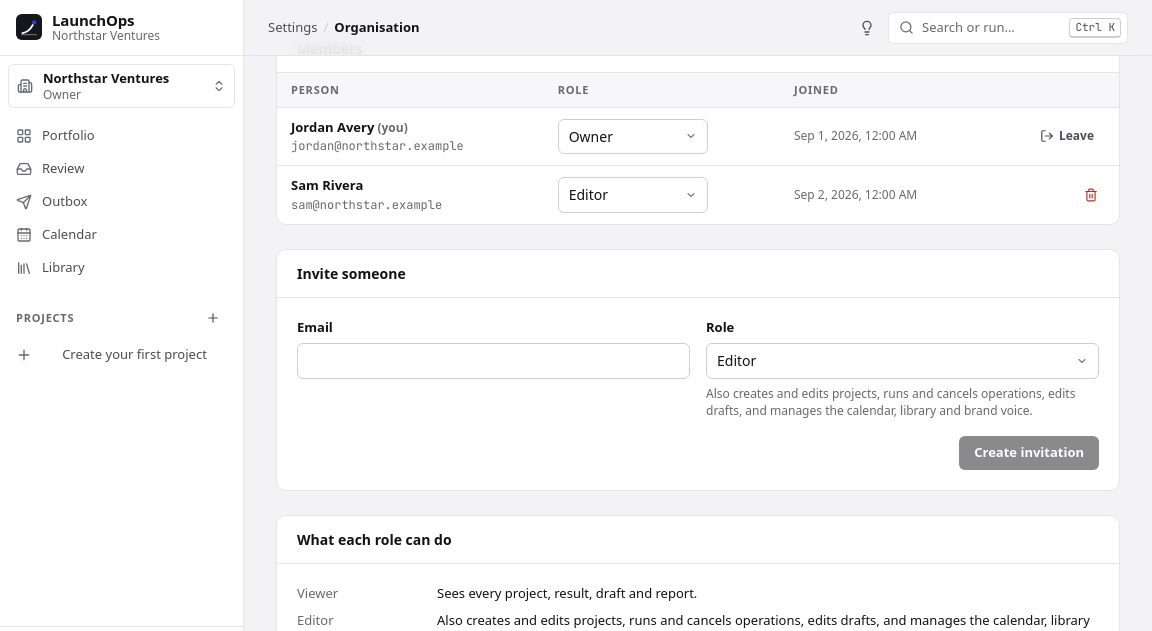
Test case: Invitations by email › says the invitation was emailed when a mail server is set up
This screenshot has width=1152, height=631.
(page scrolled)
Step 1. Type "priya@lumen.example" into the field labelled "Email" → (494, 361), box x1=297 y1=343 x2=690 y2=379
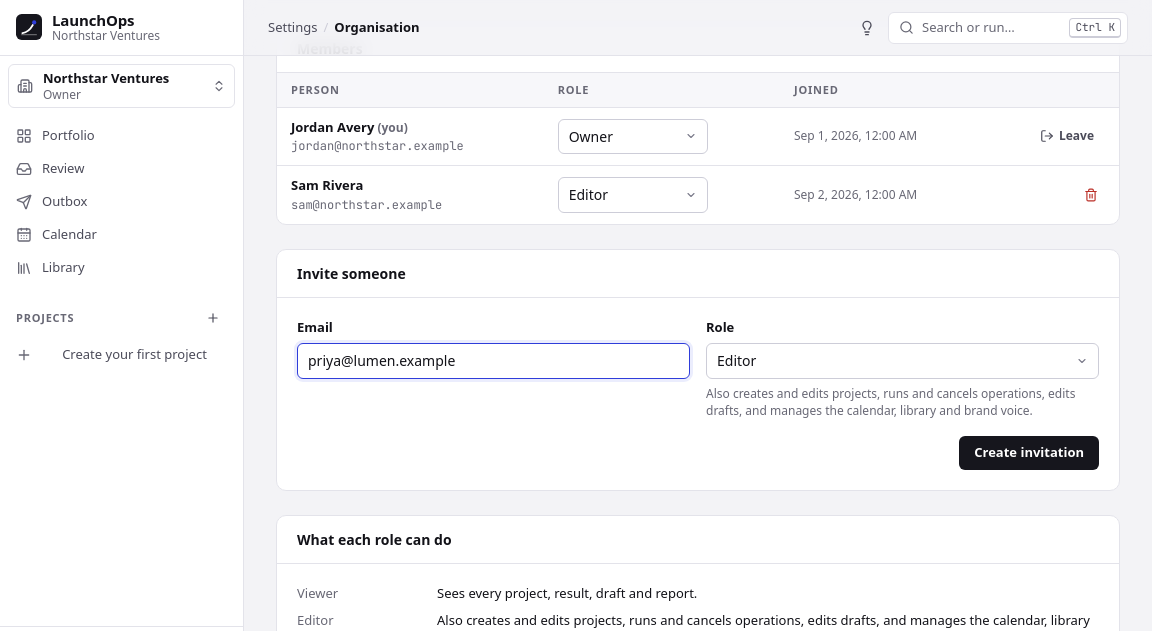
Step 2. Click the button "Create invitation" → (1029, 452), box x1=959 y1=436 x2=1099 y2=470
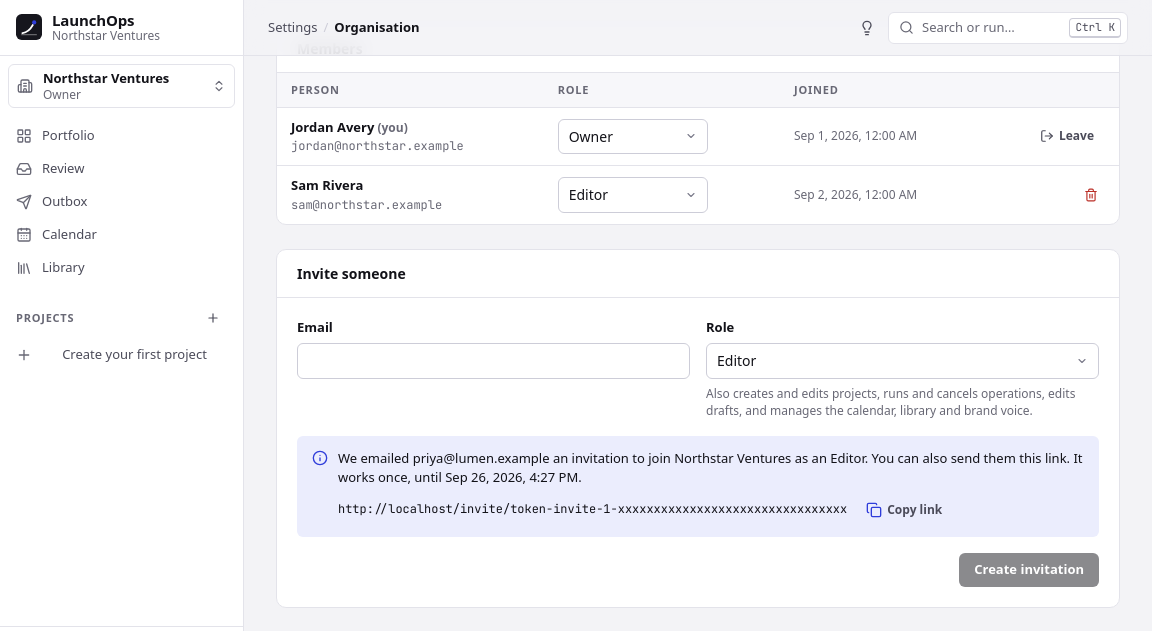
Result: the message shows "We emailed priya@lumen.example an invitation to join Northstar Ventures as an Editor. You can also send them this link." at x1=338 y1=448 x2=1070 y2=466
